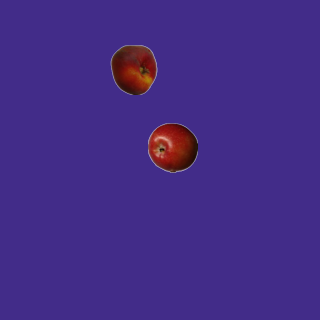Apple Braeburn: (147, 122, 197, 172)
Nectarine Flat: (108, 44, 158, 94)
